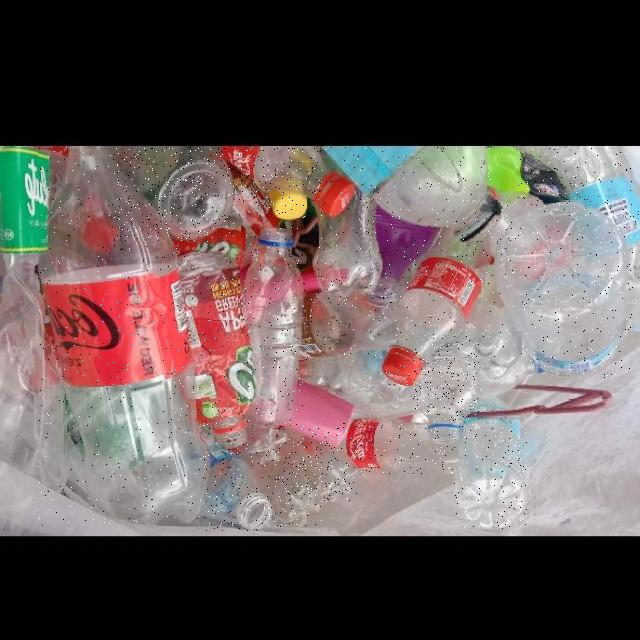plastic: (38, 147, 210, 525), (494, 200, 630, 378), (516, 147, 639, 332), (382, 227, 493, 387), (323, 147, 501, 242), (172, 251, 257, 449), (247, 227, 303, 428), (115, 147, 234, 240), (222, 147, 356, 217), (300, 277, 399, 360), (455, 417, 528, 529), (313, 186, 382, 298), (453, 276, 522, 380), (413, 342, 481, 444), (342, 421, 459, 475), (204, 443, 274, 531), (276, 426, 357, 502), (248, 459, 322, 527)
